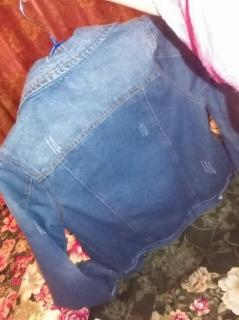long sleeve top: (0, 14, 239, 311)
